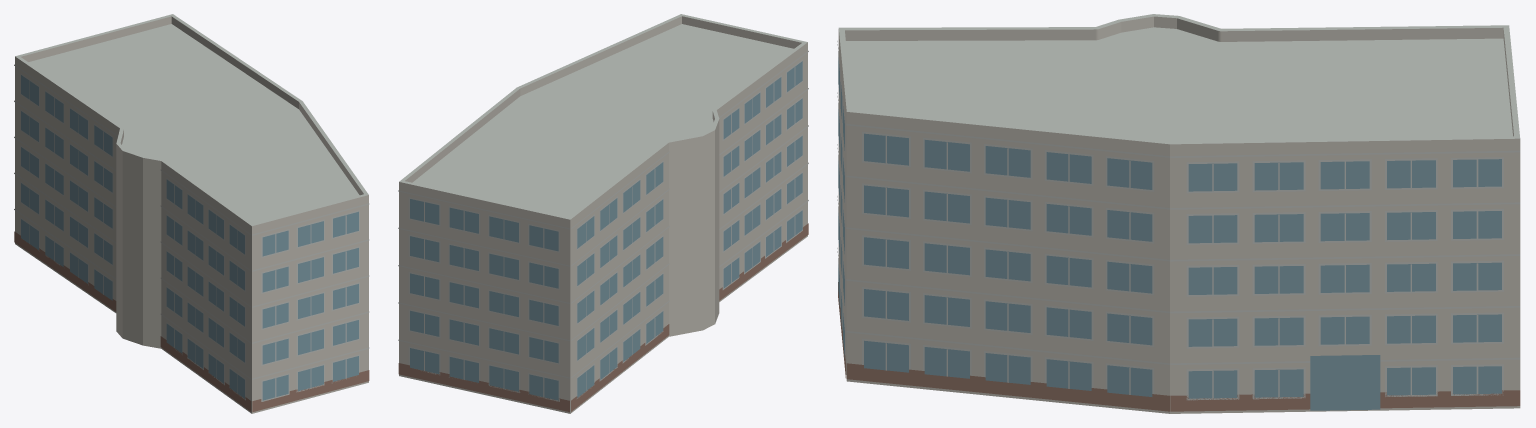
The model's file is public-1650764d-1ae0-46bd-85b4-ef90b47e0a6d.glb.
The picture shows the model from 3 angles, left to right: view 1: azimuth 30°, elevation 25°; view 2: azimuth 150°, elevation 25°; view 3: azimuth 270°, elevation 25°; orthographic projection. The views are drawn at different scales.
Parts seen in each view (by area): view 1: public-1650764d-1ae0-46bd-85b4-ef90b47e0a6d; view 2: public-1650764d-1ae0-46bd-85b4-ef90b47e0a6d; view 3: public-1650764d-1ae0-46bd-85b4-ef90b47e0a6d.
Part boxes in pixels (left/top/right/bottom): public-1650764d-1ae0-46bd-85b4-ef90b47e0a6d: left=14, top=14, right=369, bottom=413; public-1650764d-1ae0-46bd-85b4-ef90b47e0a6d: left=398, top=14, right=808, bottom=413; public-1650764d-1ae0-46bd-85b4-ef90b47e0a6d: left=837, top=14, right=1520, bottom=413.
Bounding box in the file's own units: 16.75 × 15.25 × 35.07.
